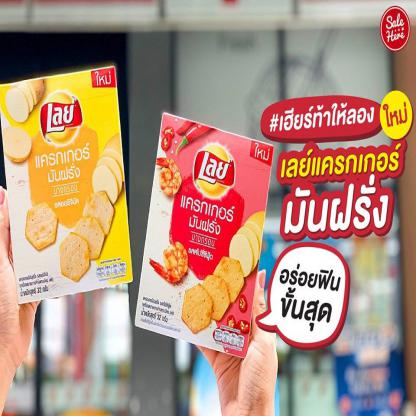potatochip: (134, 110, 273, 366), (0, 62, 135, 311)
